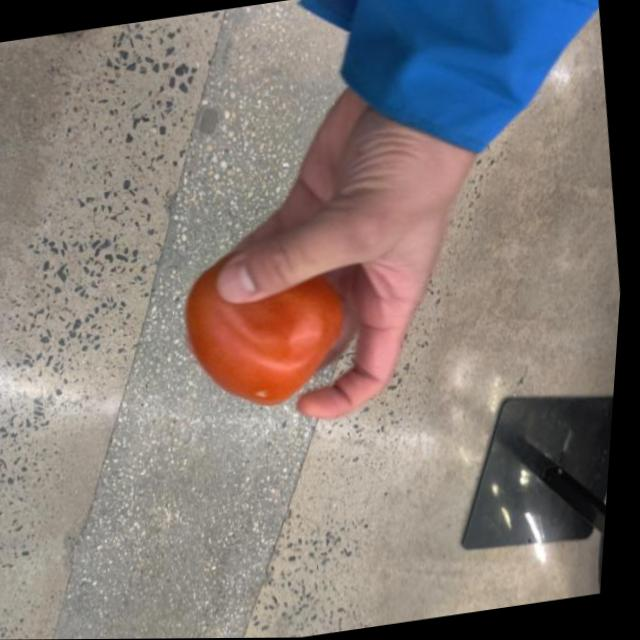Tomatoes: (180, 242, 360, 415)
